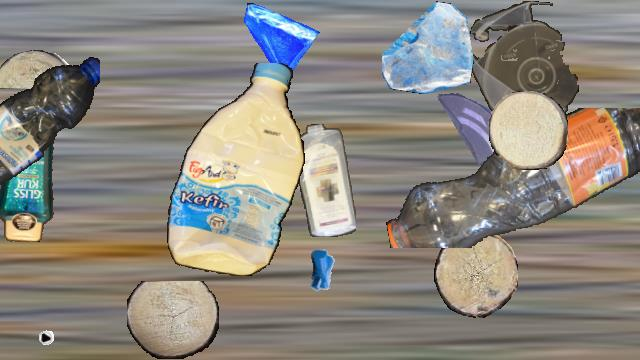glass: (382, 1, 474, 93), (433, 89, 517, 173), (238, 1, 320, 83)
metal: (292, 241, 354, 303), (1, 290, 61, 350)
plastic: (381, 108, 640, 248), (163, 63, 305, 275), (468, 1, 580, 133), (0, 50, 99, 190), (0, 99, 64, 241), (295, 124, 355, 236)
wood: (434, 232, 518, 318), (127, 281, 219, 359), (489, 91, 567, 169), (0, 50, 74, 88)
